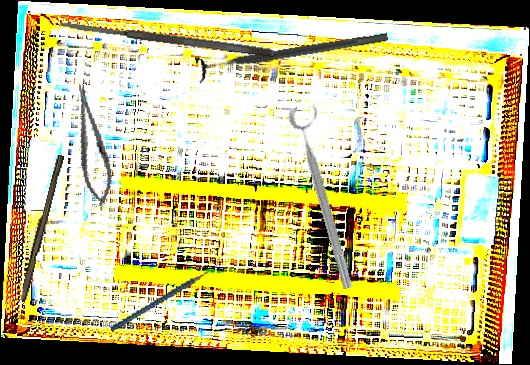Chopper: (100, 255, 231, 333)
Fixation Ring: (286, 101, 368, 292), (194, 22, 391, 86)
Needle Holder: (67, 81, 118, 208)
Scalpel Handle: (17, 153, 65, 302)
Spatula Surgical: (57, 17, 276, 60)
